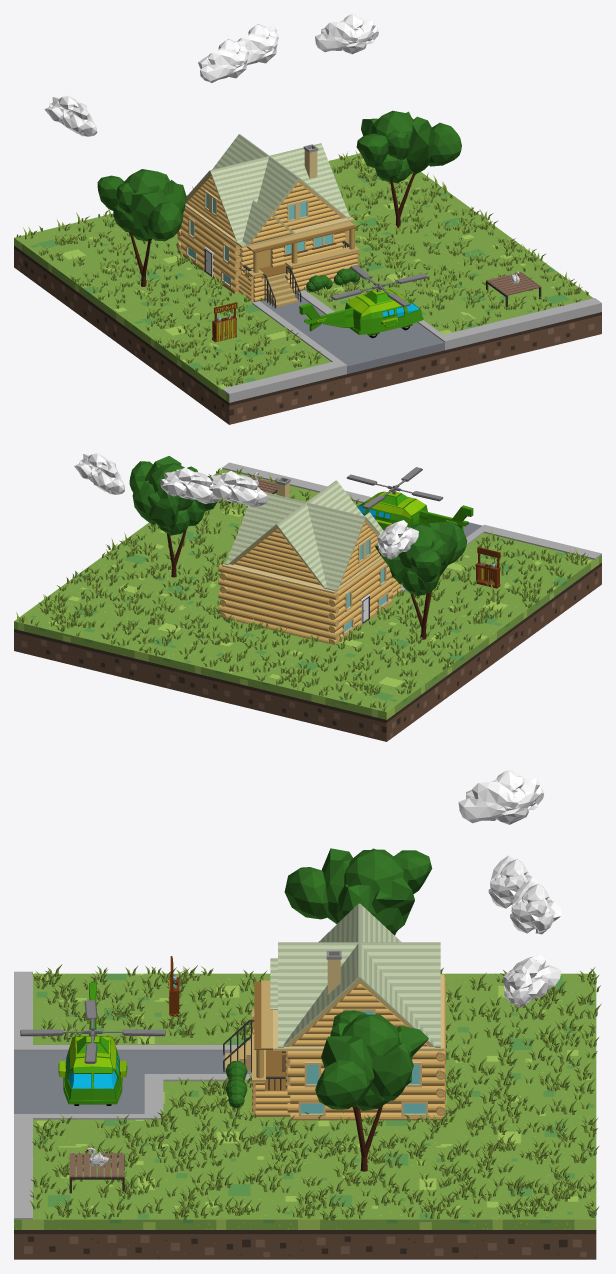
3 views of the same model, one above another, from view 1: azimuth 30°, elevation 25°; view 2: azimuth 150°, elevation 25°; view 3: azimuth 270°, elevation 25° (orthographic). The views are drawn at different scales.
Visible parts, largest first — view 1: Cube.006, Cube.1516, Circle.012_Grass_0.192, Cube.007, tree, tree.001, VEHICLES_HELICOPTER, Cube.009, OBJRANDOM_LEMONADE_STAND; view 2: Cube.006, Cube.1516, Circle.012_Grass_0.192, Cube.007, tree.001, tree, VEHICLES_HELICOPTER, OBJRANDOM_LEMONADE_STAND; view 3: Cube.006, Circle.012_Grass_0.192, Cube.1516, tree, Cube.007, tree.001, VEHICLES_HELICOPTER, Cube.009.
Part boxes in pixels (left/top/right/bottom): Cube.006: left=14, top=153, right=601, bottom=424; Cube.1516: left=176, top=134, right=359, bottom=308; Circle.012_Grass_0.192: left=16, top=150, right=588, bottom=386; Cube.007: left=44, top=14, right=378, bottom=136; tree: left=356, top=110, right=461, bottom=228; tree.001: left=97, top=169, right=186, bottom=286; VEHICLES_HELICOPTER: left=299, top=265, right=427, bottom=338; Cube.009: left=486, top=272, right=541, bottom=306; OBJRANDOM_LEMONADE_STAND: left=212, top=302, right=237, bottom=342; Cube.006: left=14, top=462, right=601, bottom=741; Cube.1516: left=218, top=477, right=401, bottom=644; Circle.012_Grass_0.192: left=16, top=468, right=588, bottom=711; Cube.007: left=74, top=453, right=418, bottom=559; tree.001: left=375, top=521, right=467, bottom=639; tree: left=129, top=456, right=216, bottom=577; VEHICLES_HELICOPTER: left=346, top=467, right=473, bottom=530; OBJRANDOM_LEMONADE_STAND: left=475, top=547, right=500, bottom=588; Cube.006: left=14, top=971, right=596, bottom=1259; Circle.012_Grass_0.192: left=29, top=964, right=601, bottom=1220; Cube.1516: left=223, top=903, right=445, bottom=1120; tree: left=315, top=1010, right=428, bottom=1171; Cube.007: left=458, top=770, right=561, bottom=1007; tree.001: left=284, top=848, right=432, bottom=935; VEHICLES_HELICOPTER: left=20, top=982, right=165, bottom=1105; Cube.009: left=69, top=1153, right=124, bottom=1193.
Bounding box in the file's own units: 4071 × 2175 × 4040.
Materials: 42 (4 with a texture image).
